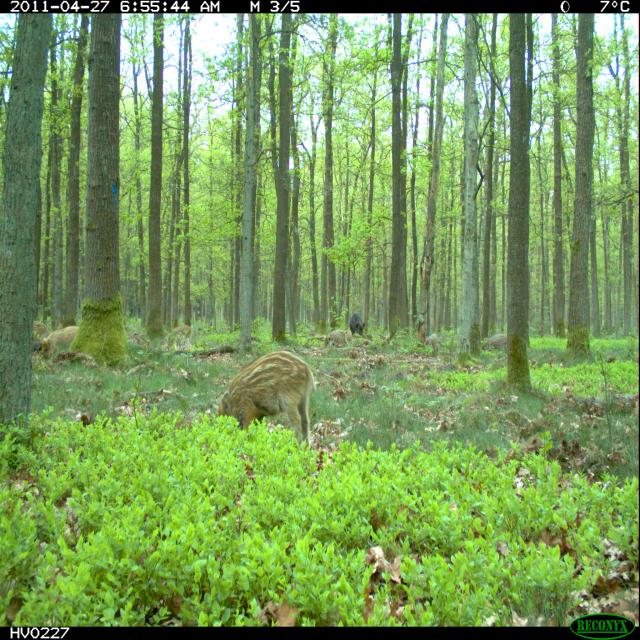boar: (198, 328, 328, 452)
